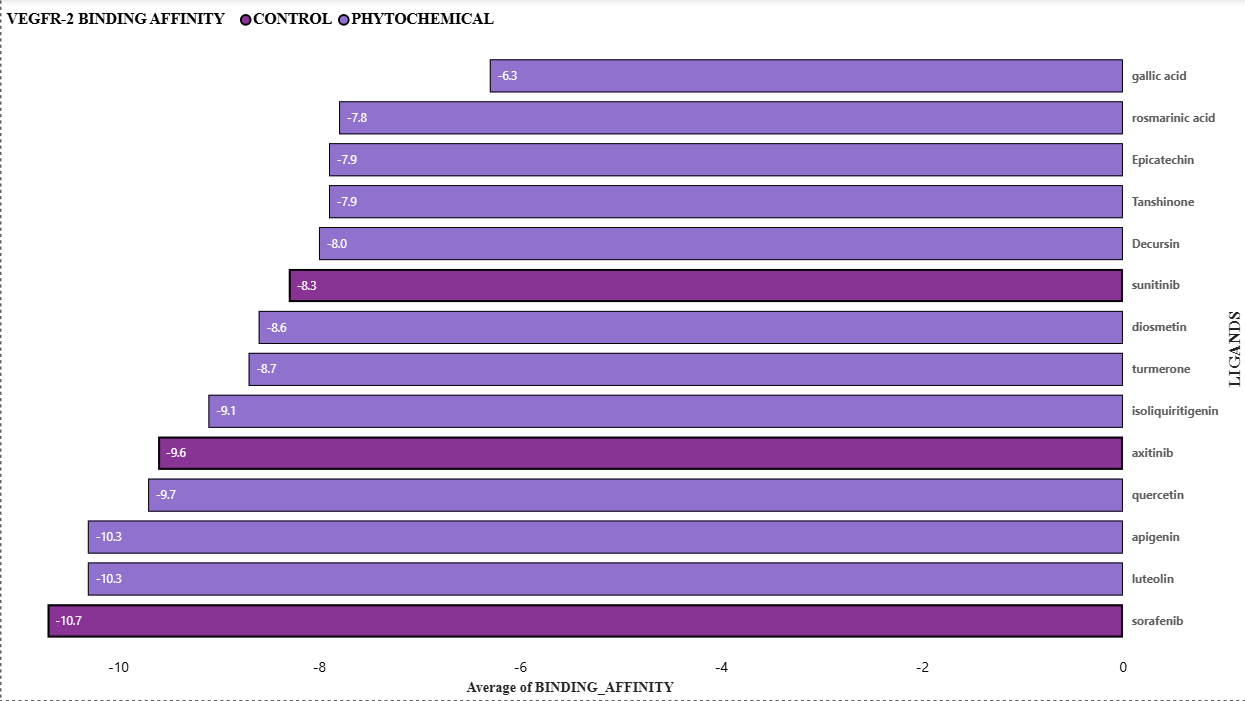

This screenshot's page, from the dashboard's own definition file:
{"tool":"powerbi","page":{"name":"VEGFR-2 BINDING AFFINITY ANALYSIS ","canvas":[1280,720],"ordinal":0},"visuals":[{"type":"barChart","fields":{"Category":["SQL FILTERED RESULTS.Ligand"],"Y":["Avg(SQL FILTERED RESULTS.BINDING_AFFINITY)"],"Series":["SQL FILTERED RESULTS.COMPOUND_TYPE "]},"box":[0,0,1280,720],"z":0}]}

Visuals, with their boxes in screenshot pixels (x1, y1, x2, y2), scaled from the page's 1280x720 canvas onto the 1245x701 screenshot:
barChart - SQL FILTERED RESULTS.Ligand x Avg(SQL FILTERED RESULTS.BINDING_AFFINITY): select_region(0, 0, 1244, 700)
